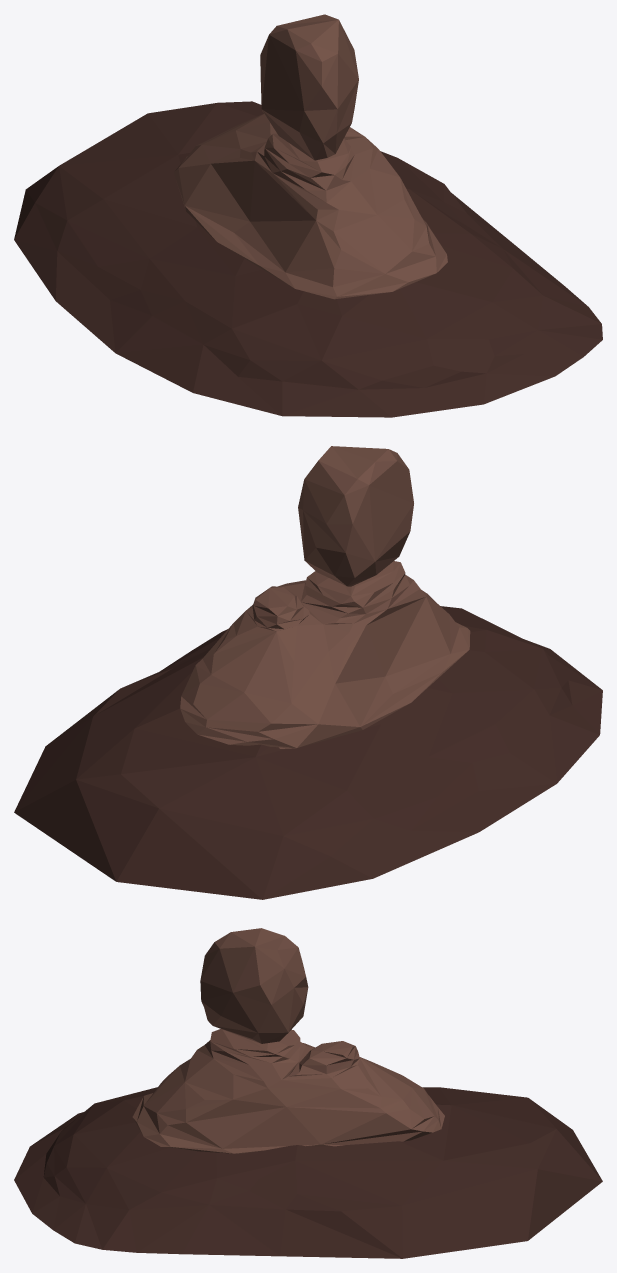
Rendered from Brown_rock_010.fbx.
3 renders of one model, top to bottom at view 1: azimuth 30°, elevation 25°; view 2: azimuth 150°, elevation 25°; view 3: azimuth 270°, elevation 25°, orthographic. The views are drawn at different scales.
Visible parts, largest first — view 1: Brown_rock_010; view 2: Brown_rock_010; view 3: Brown_rock_010.
Part boxes in pixels (box(x1,y1,x2,y2)): Brown_rock_010: box(14, 14, 602, 417); Brown_rock_010: box(14, 446, 602, 899); Brown_rock_010: box(14, 928, 602, 1258).
Size of the model in its own units: 1599 by 2342 by 1023.
